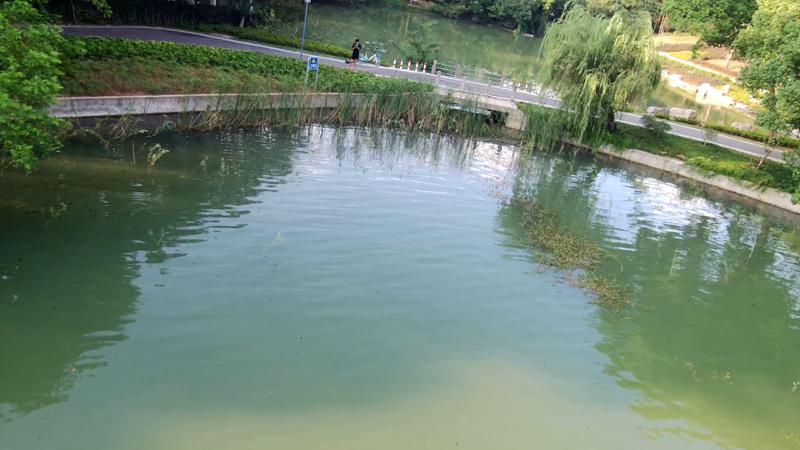passerby: (348, 38, 362, 70)
